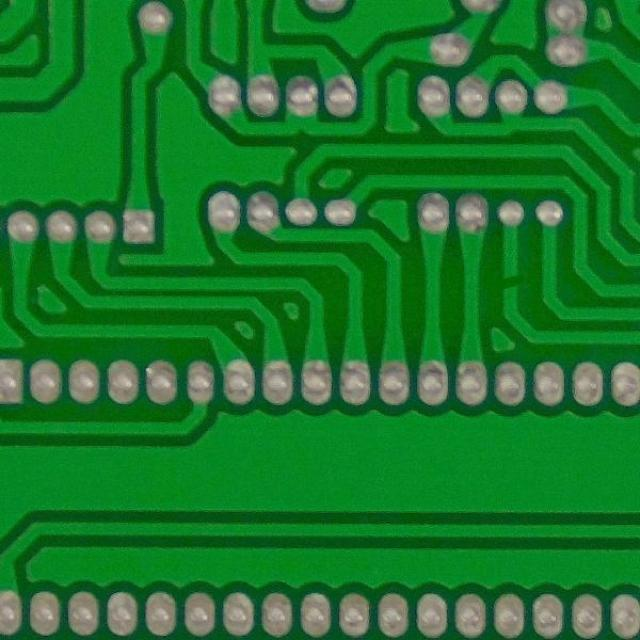Open_Circuit: (492, 264, 530, 300)
